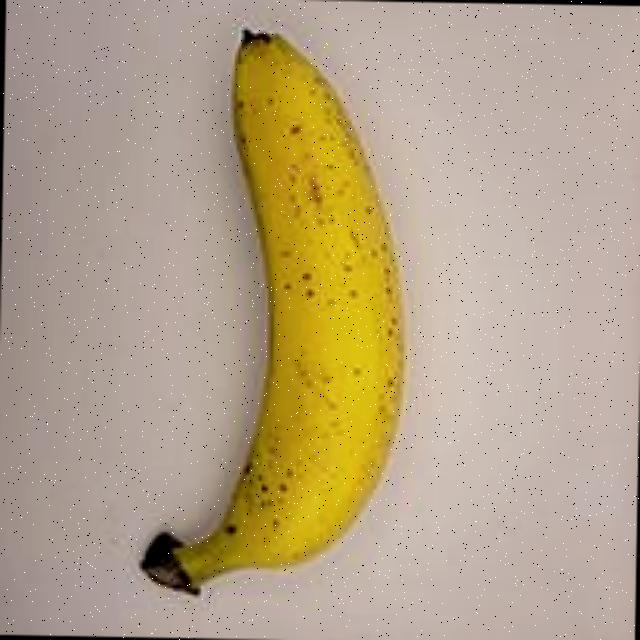Overripe: (117, 15, 452, 628)
